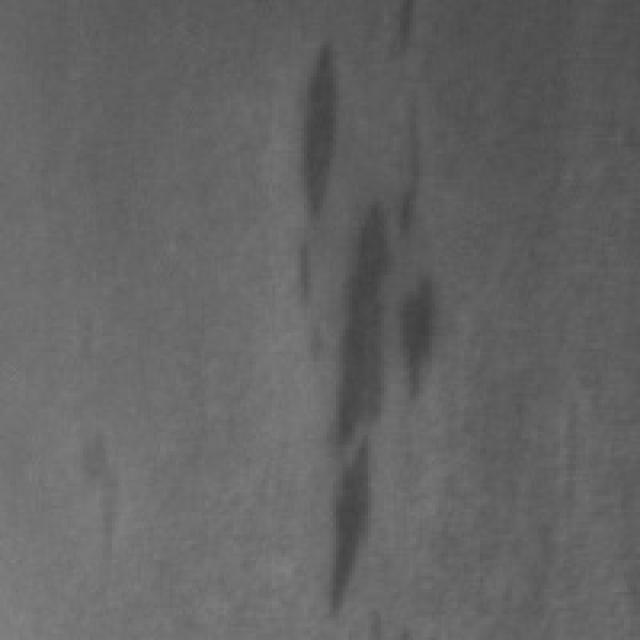inclusion: (288, 25, 435, 618), (275, 10, 355, 236), (61, 419, 125, 554), (387, 263, 445, 407)
